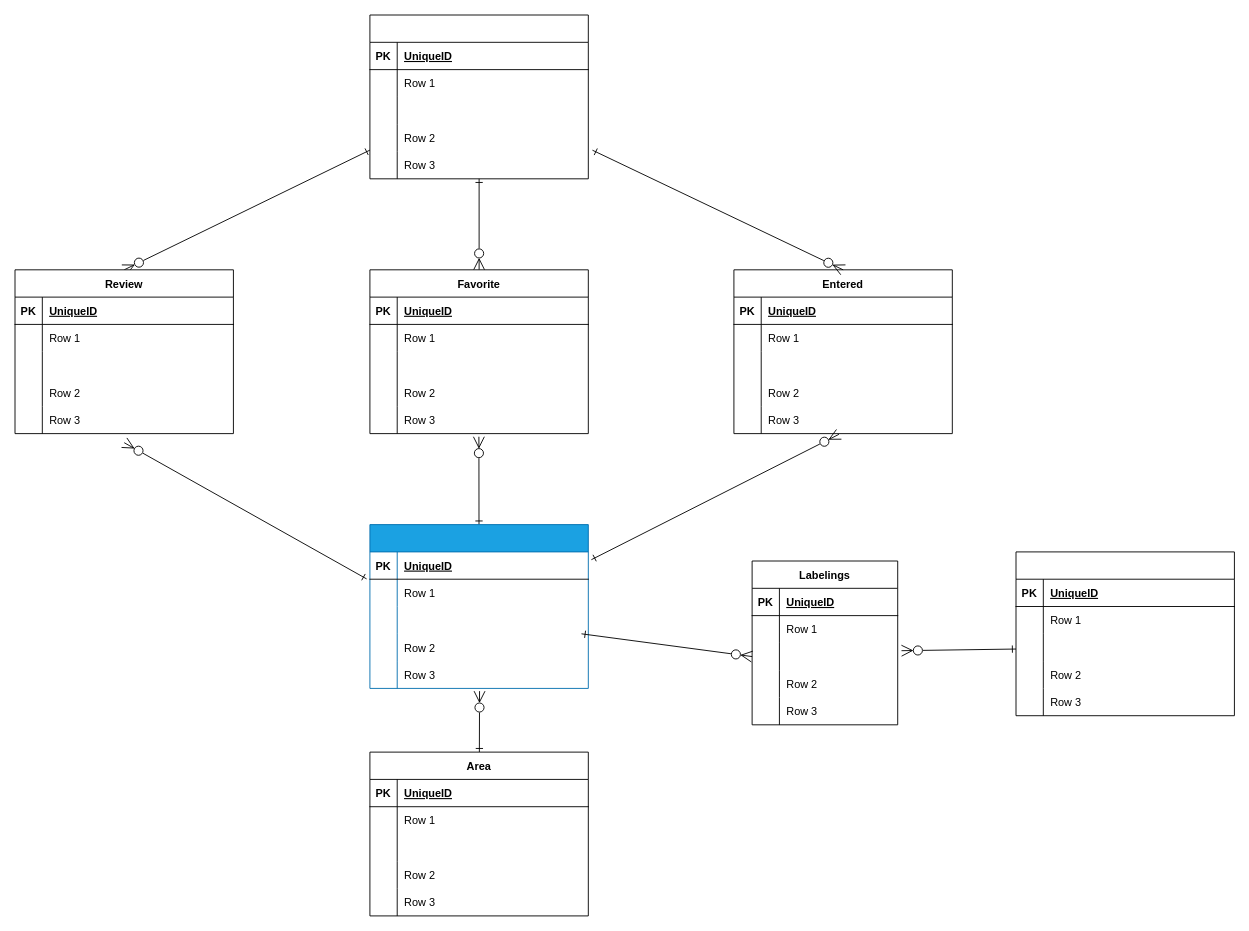
The diagram is 1249 pixels wide and 931 high, and some of its shapes have lost their labels. Here are the shapes that lost their labels. From the top down, the box of each, then its label:
(369, 14, 588, 179): User
(369, 524, 588, 688): Hot_spring_hotel
(1015, 551, 1234, 716): Label
